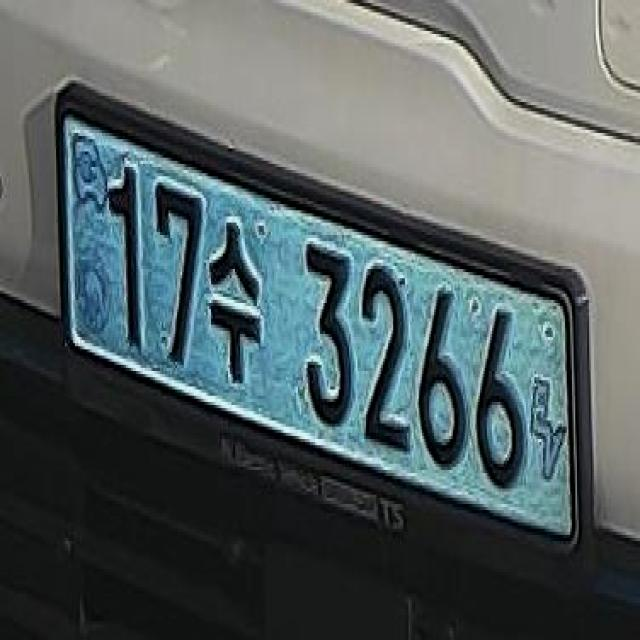EV_plate: (53, 95, 588, 562)
